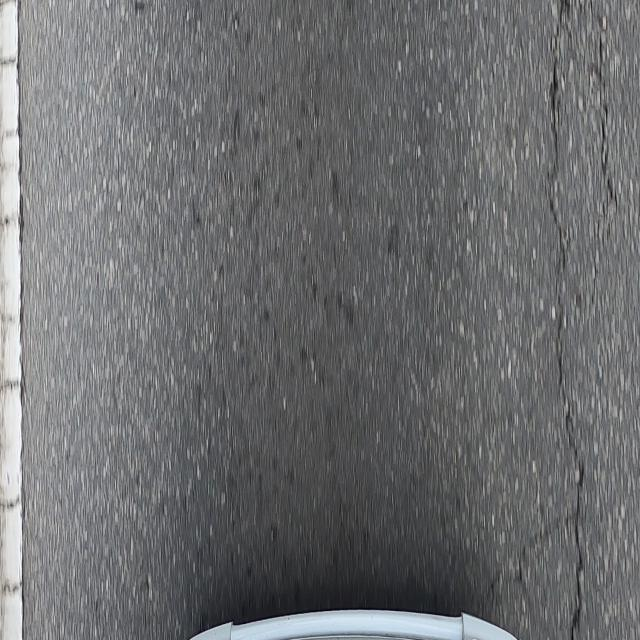Retak-Memanjang: (548, 0, 585, 637), (597, 45, 619, 208)
